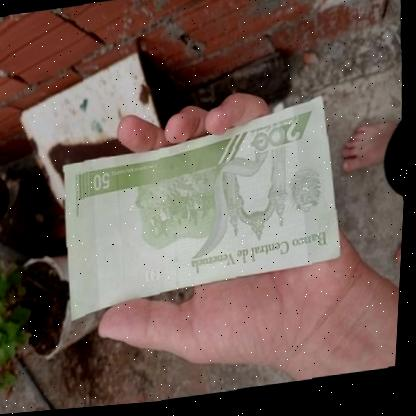fifty-back-vef: (56, 98, 351, 325)
